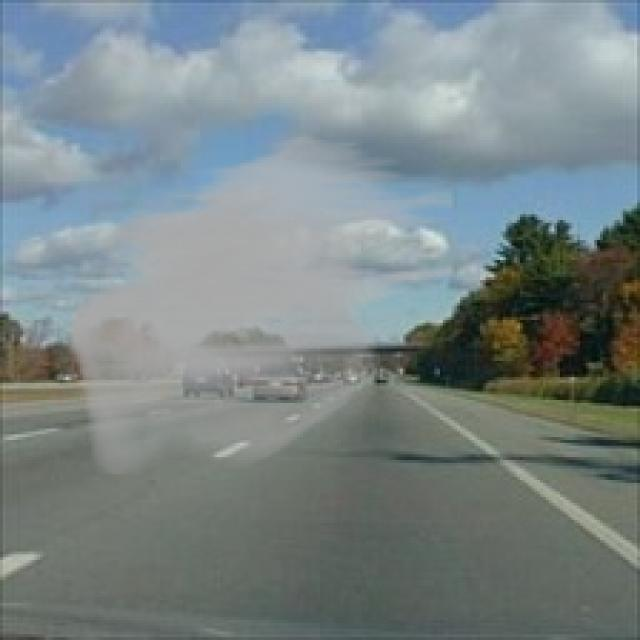smoke: (66, 132, 457, 477)
